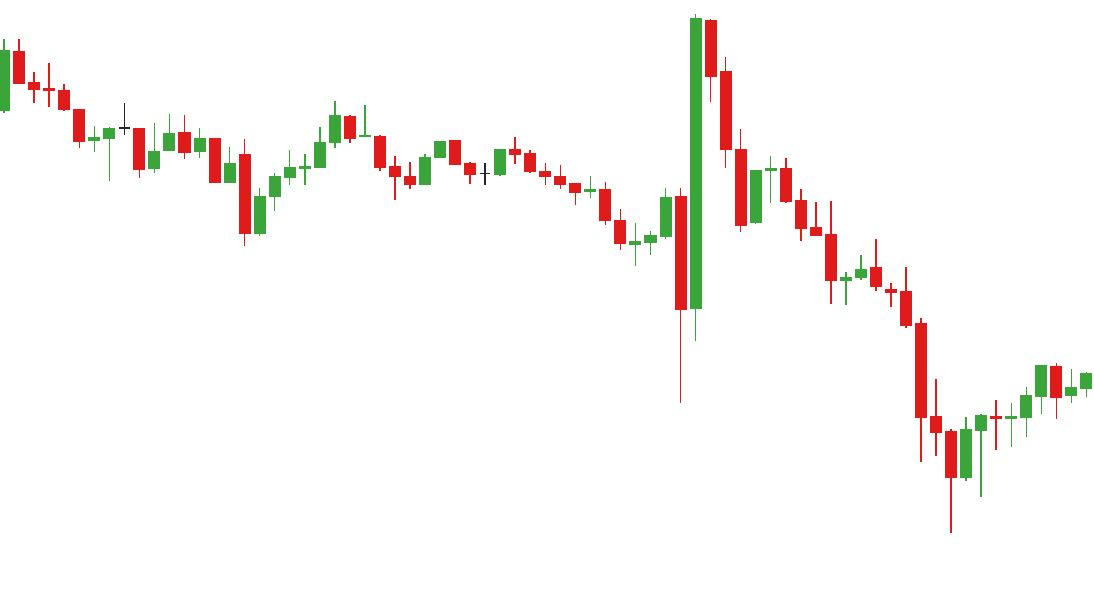sell: (11, 13, 717, 196)
